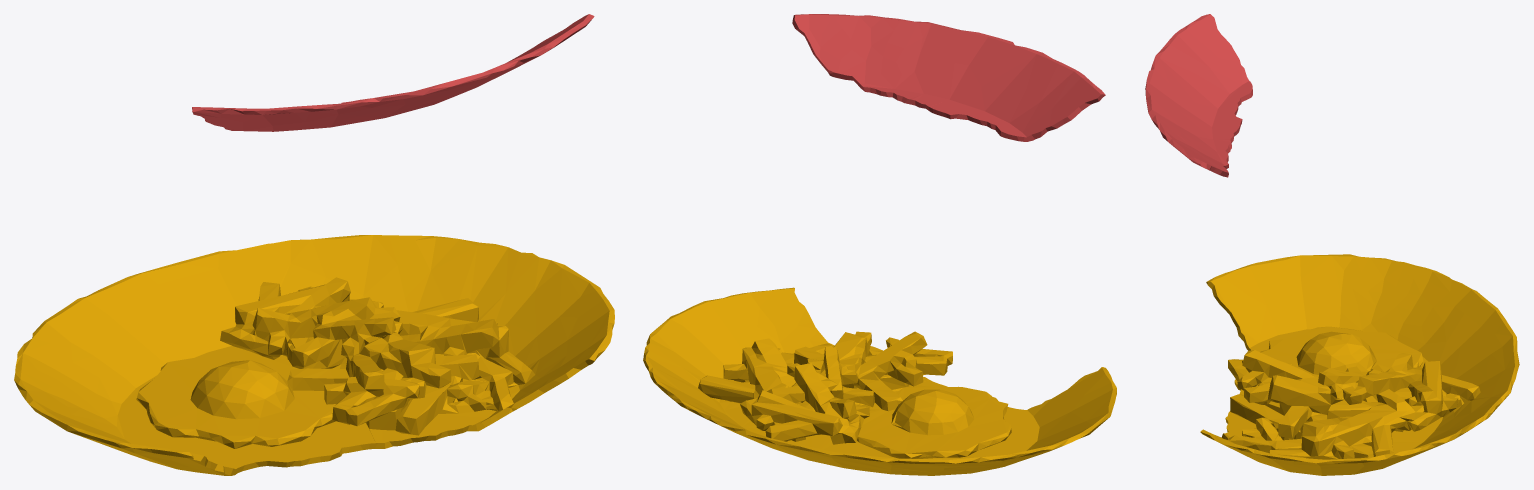
Rendered from fractured_73_2pcs_transformed.glb.
The picture shows the model from 3 angles, left to right: view 1: azimuth 30°, elevation 25°; view 2: azimuth 150°, elevation 25°; view 3: azimuth 270°, elevation 25°; orthographic projection. The views are drawn at different scales.
Visible parts, largest first — view 1: piece_0.obj, piece_1.obj; view 2: piece_0.obj, piece_1.obj; view 3: piece_0.obj, piece_1.obj.
Boxes of the visible parts, <box> form: piece_0.obj: <box>14,235,614,475</box>; piece_1.obj: <box>192,14,594,131</box>; piece_0.obj: <box>643,287,1116,475</box>; piece_1.obj: <box>792,14,1105,141</box>; piece_0.obj: <box>1200,254,1519,475</box>; piece_1.obj: <box>1145,14,1252,177</box>.
Size of the model in its own units: 1 by 0.7031 by 0.7609.
